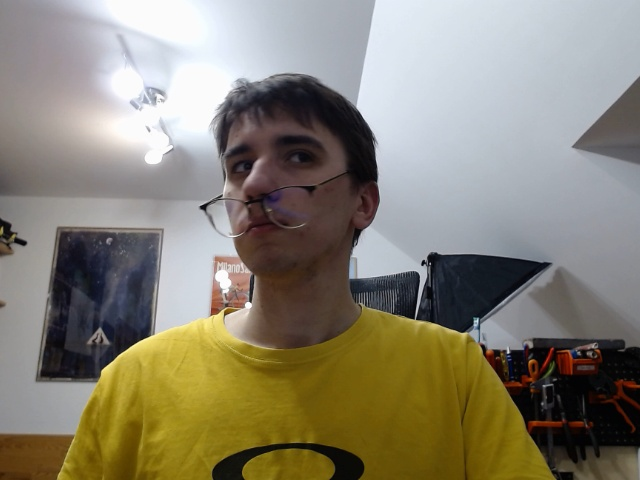NoMask: (197, 73, 382, 284)
